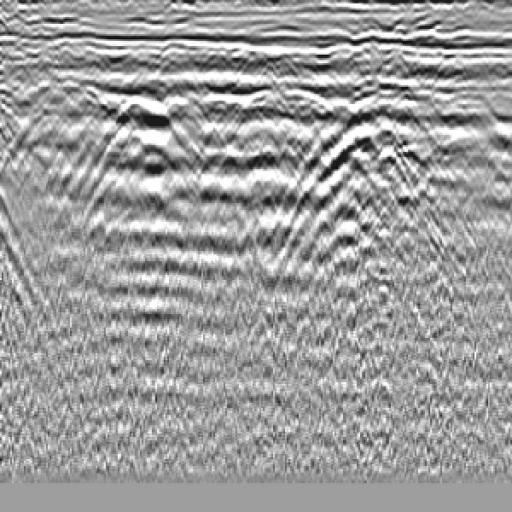metalic: (94, 68, 187, 176)
